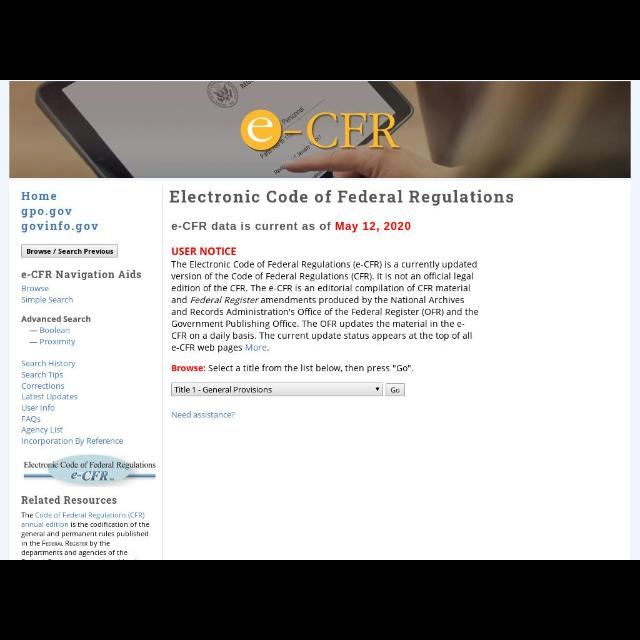icon: (374, 386, 382, 392)
image: (10, 82, 630, 178), (21, 454, 160, 488)
spinner: (172, 383, 382, 395)
text: (170, 259, 478, 355), (20, 361, 124, 447), (20, 511, 150, 559), (169, 188, 517, 204), (169, 218, 413, 234), (20, 190, 100, 234), (169, 362, 413, 376), (18, 268, 142, 282), (20, 495, 118, 507), (28, 327, 78, 347), (22, 286, 74, 304), (174, 386, 274, 394), (171, 244, 237, 256), (25, 247, 115, 255), (171, 410, 237, 420), (20, 316, 90, 324), (390, 386, 400, 392)
textbutton: (21, 245, 117, 258), (386, 383, 406, 395)
